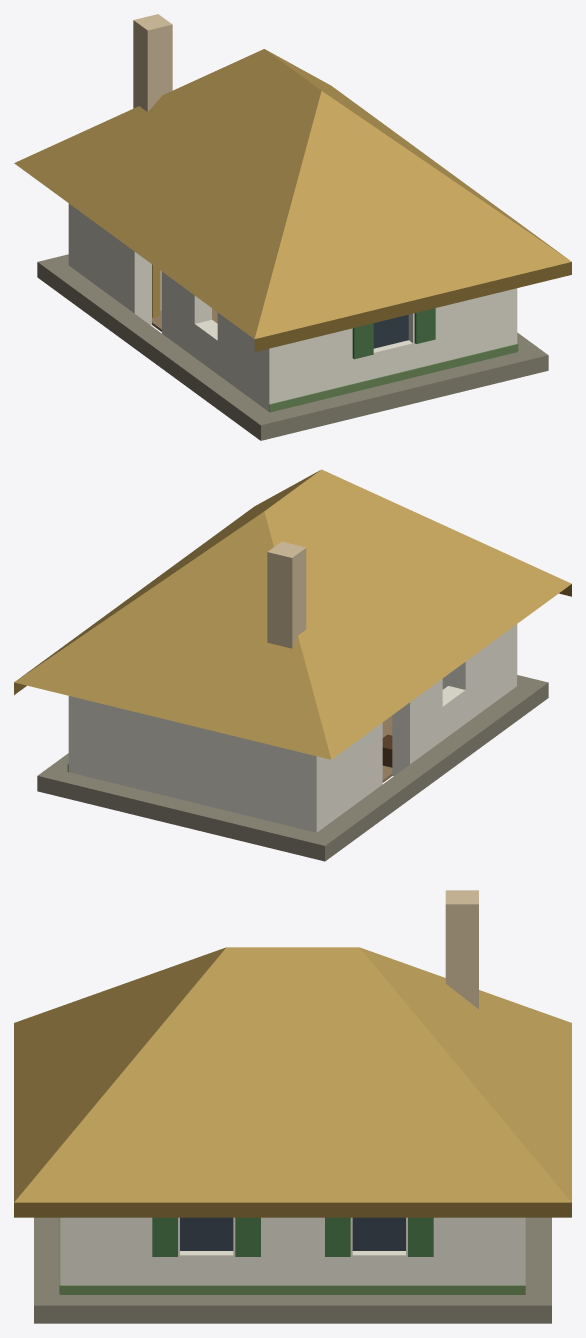
Rendered from vesna.glb.
The picture shows the model from 3 angles, top to bottom: view 1: azimuth 30°, elevation 25°; view 2: azimuth 150°, elevation 25°; view 3: azimuth 270°, elevation 25°; orthographic projection. The views are drawn at different scales.
Parts seen in each view (by area): view 1: roof_west, roof_south, wall_west (×3), wall_south (×2), pryzba_s, pryzba_w, eave_s, chimney, dado_s, roof_east, shutter (×2), wall_south_sill (+2 smaller); view 2: roof_west, roof_north, wall_north, wall_west (×3), pryzba_n, pryzba_w, chimney, roof_east, wall_east, wall_west_sill, pryzba_s; view 3: roof_east, wall_east (×3), roof_south, roof_north, pryzba_e, eave_e, dado_e, shutter (×4), wall_east_sill (×2), pane (×2), chimney, pryzba_n (+2 smaller).
Part boxes in pixels (x1,y1,x2,y2): roof_west: [14, 49, 321, 338]; roof_south: [254, 91, 571, 338]; wall_west (×3): [68, 203, 286, 411]; wall_south (×2): [269, 288, 517, 403]; pryzba_s: [249, 347, 548, 440]; pryzba_w: [49, 265, 268, 431]; eave_s: [254, 262, 571, 351]; chimney: [133, 14, 172, 111]; dado_s: [269, 344, 517, 412]; roof_east: [265, 49, 567, 258]; shutter (×2): [352, 308, 435, 359]; wall_south_sill: [373, 340, 412, 378]; roof_west: [264, 469, 571, 759]; roof_north: [14, 511, 331, 759]; wall_north: [68, 696, 326, 831]; wall_west (×3): [299, 624, 517, 832]; pryzba_n: [37, 767, 336, 861]; pryzba_w: [317, 686, 536, 852]; chimney: [267, 541, 306, 648]; roof_east: [18, 470, 319, 679]; wall_east: [68, 696, 85, 776]; wall_west_sill: [442, 686, 465, 740]; pryzba_s: [517, 675, 548, 705]; roof_east: [14, 947, 571, 1202]; wall_east (×3): [60, 1217, 525, 1285]; roof_south: [14, 947, 225, 1201]; roof_north: [360, 947, 571, 1201]; pryzba_e: [60, 1295, 525, 1323]; eave_e: [14, 1202, 571, 1217]; dado_e: [60, 1285, 525, 1294]; shutter (×4): [152, 1217, 433, 1256]; wall_east_sill (×2): [180, 1251, 405, 1285]; pane (×2): [180, 1217, 405, 1250]; chimney: [445, 890, 478, 1008]; pryzba_n: [525, 1217, 551, 1323].
Bounding box in the file's own units: 6.4 × 5.1 × 8.4.
